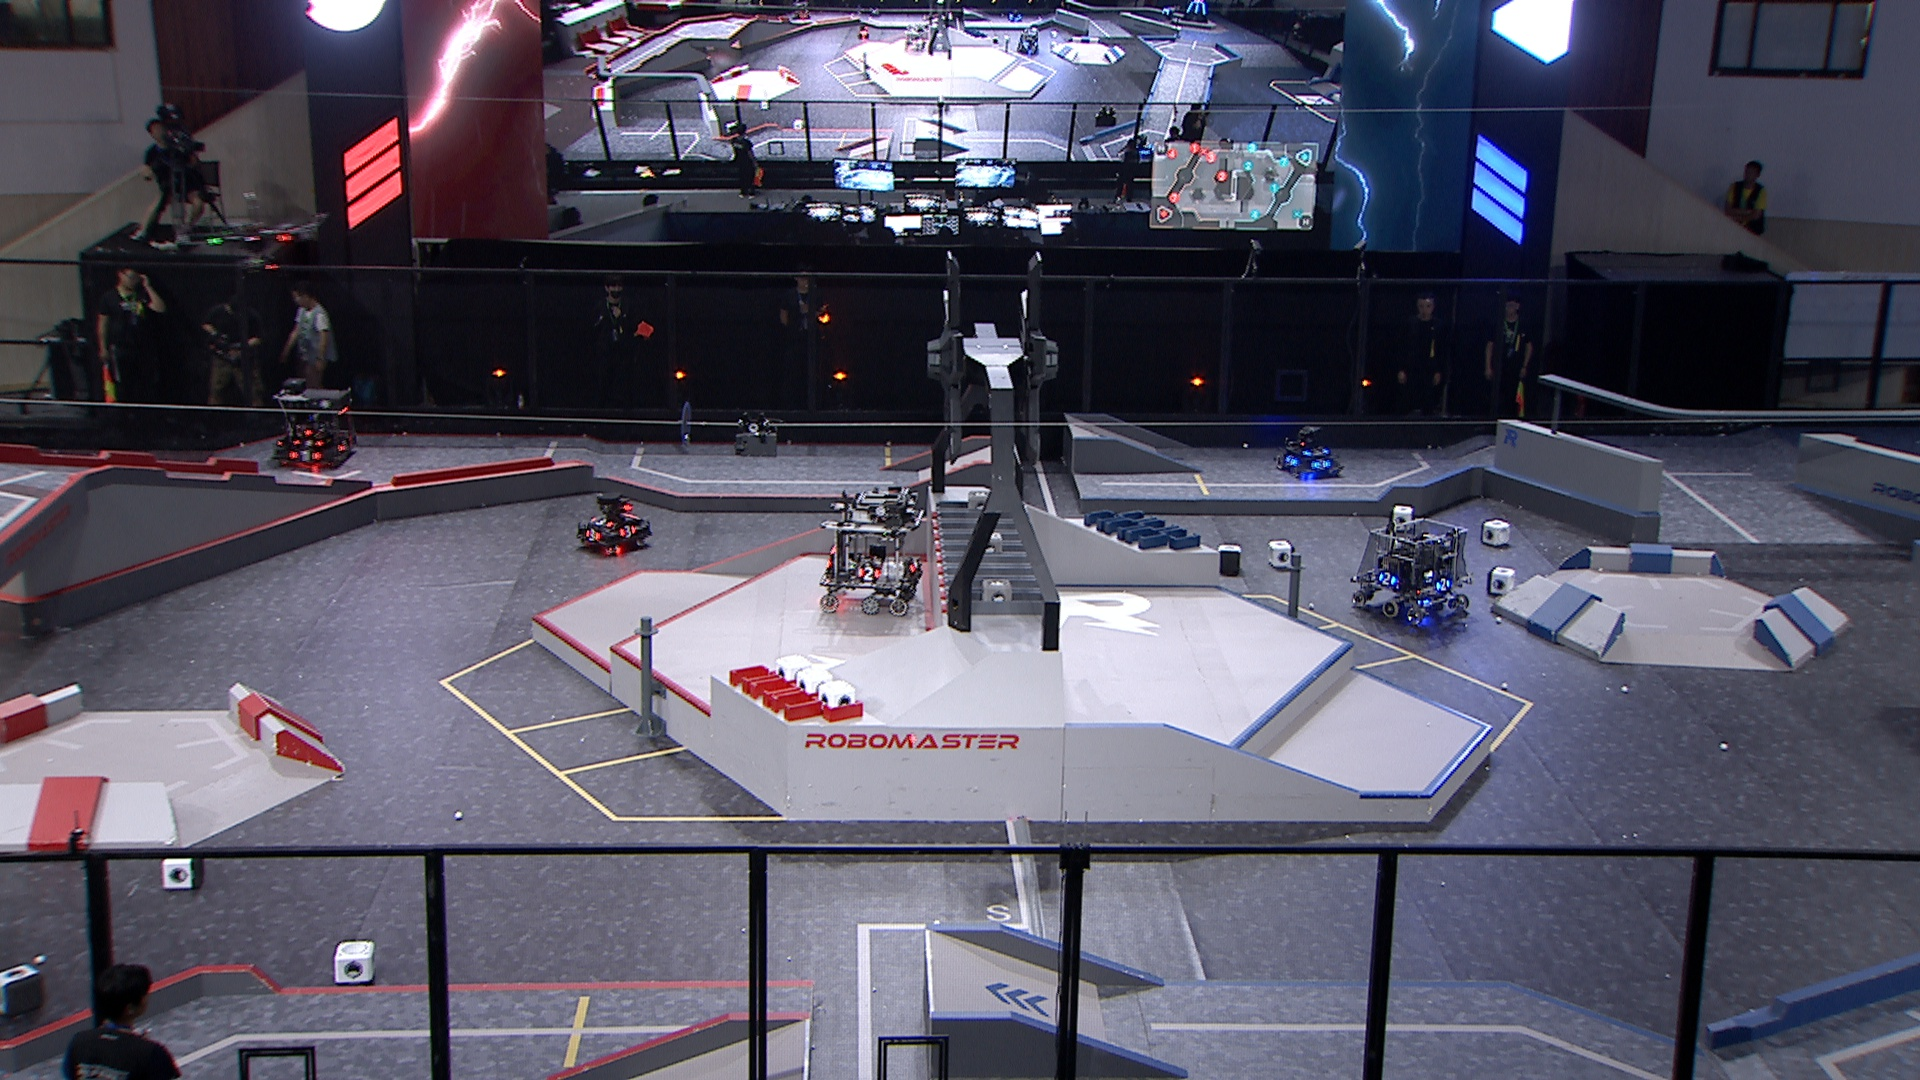armor: (287, 447, 323, 463), (583, 524, 607, 543), (290, 436, 324, 450), (617, 520, 638, 541), (858, 564, 882, 583), (1302, 443, 1331, 458), (1305, 458, 1333, 472), (589, 512, 613, 527), (334, 436, 356, 452), (1378, 570, 1396, 588), (1436, 576, 1455, 593), (1283, 451, 1300, 469)
car: (816, 483, 927, 617), (1346, 513, 1474, 622), (269, 380, 359, 472), (574, 489, 655, 555), (1269, 425, 1346, 480)
ignore: (902, 21, 932, 55), (1129, 128, 1156, 162), (1015, 24, 1043, 54), (790, 0, 812, 20), (1160, 5, 1178, 22)
